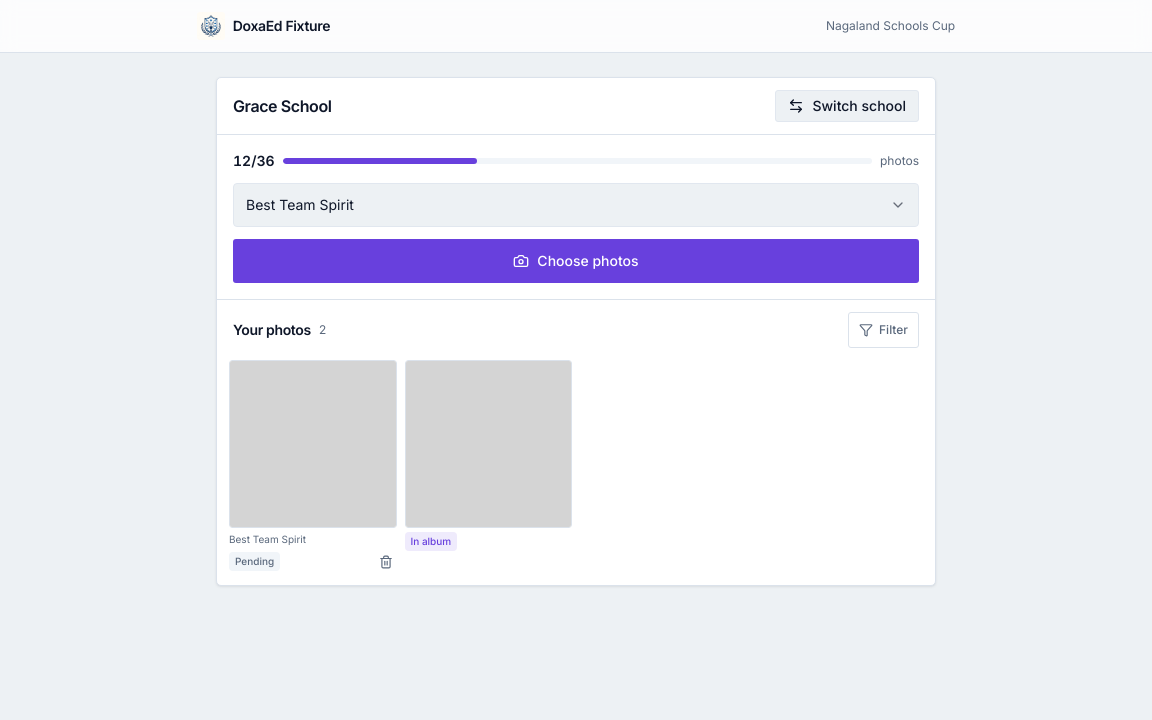
Scenario: LensUploadPage › filters your own photos by category, with a count on each
This screenshot has width=1152, height=720.
Click the button with test id "gallery-filter-btn": (884, 330) [848, 312, 919, 348]
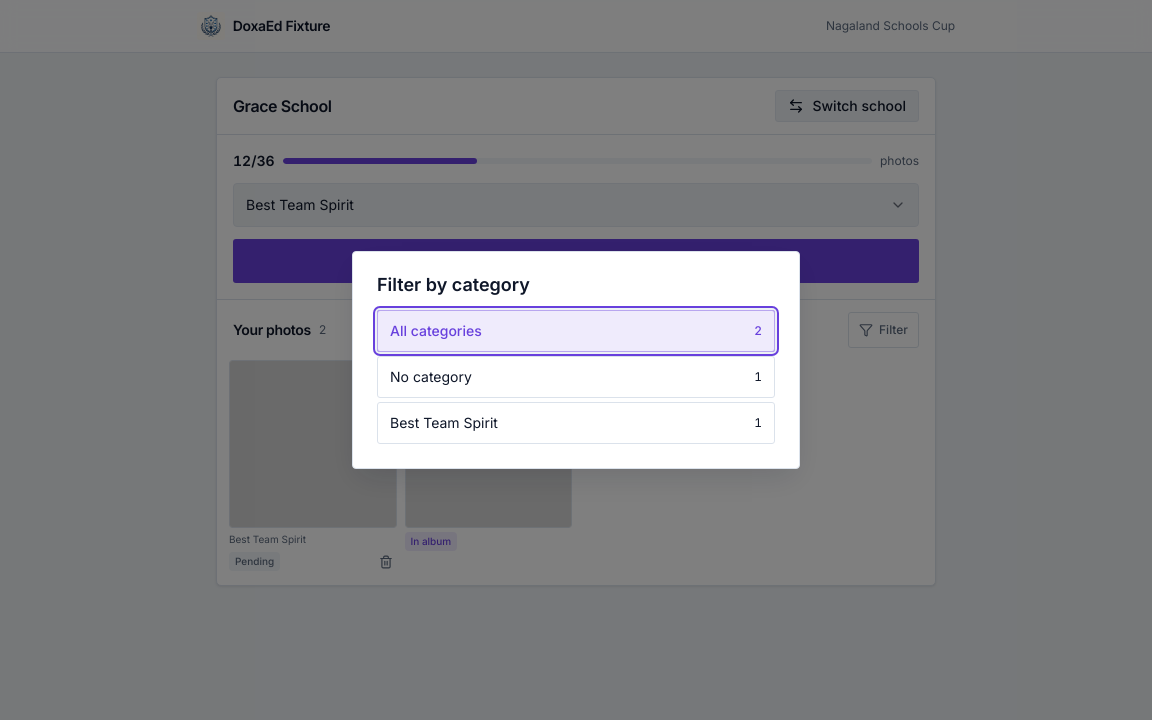
Result: the button with test id "gallery-filter-all" shows "2" at [377, 310, 775, 352]
Click the button "Best Team Spirit 1": (444, 422) [377, 402, 775, 444]
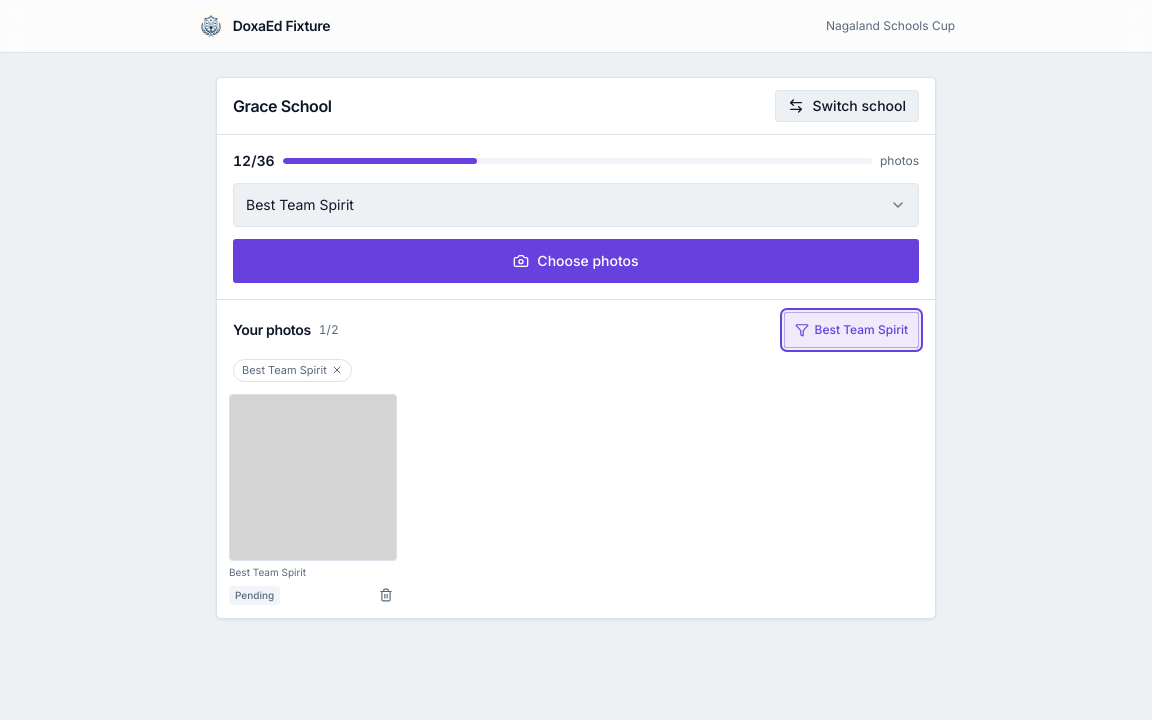
Result: the button with test id "gallery-filter-clear" is shown at [233, 359, 352, 382]
